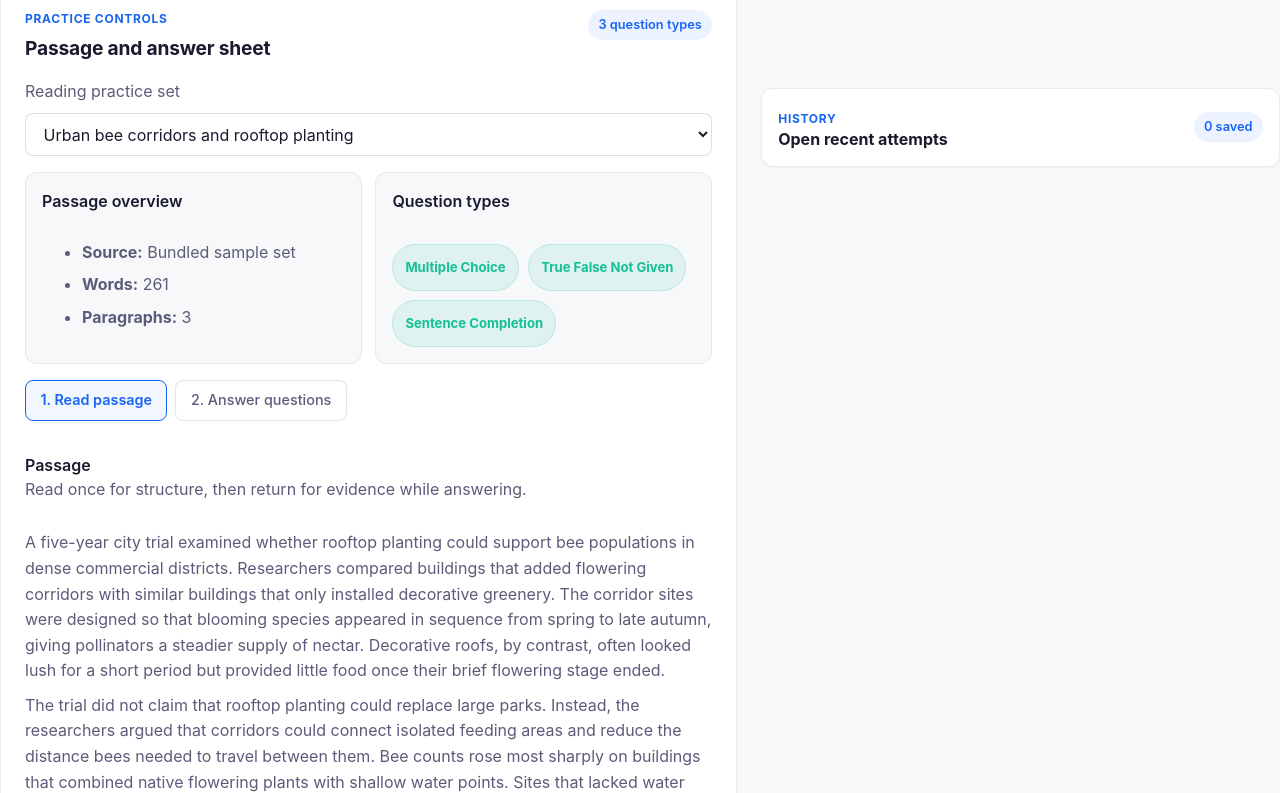
Scenario: ReadingPracticeShell › renders the passage, progress summary, and submitted report without creating a nested main landmark
(page scrolled)
Expected: the text "True False Not Given" is shown, x1=541 y1=258 x2=674 y2=277
Click the tab "2. Answer questions" at coordinates (261, 400), box x1=176 y1=380 x2=347 y2=421
(page scrolled)
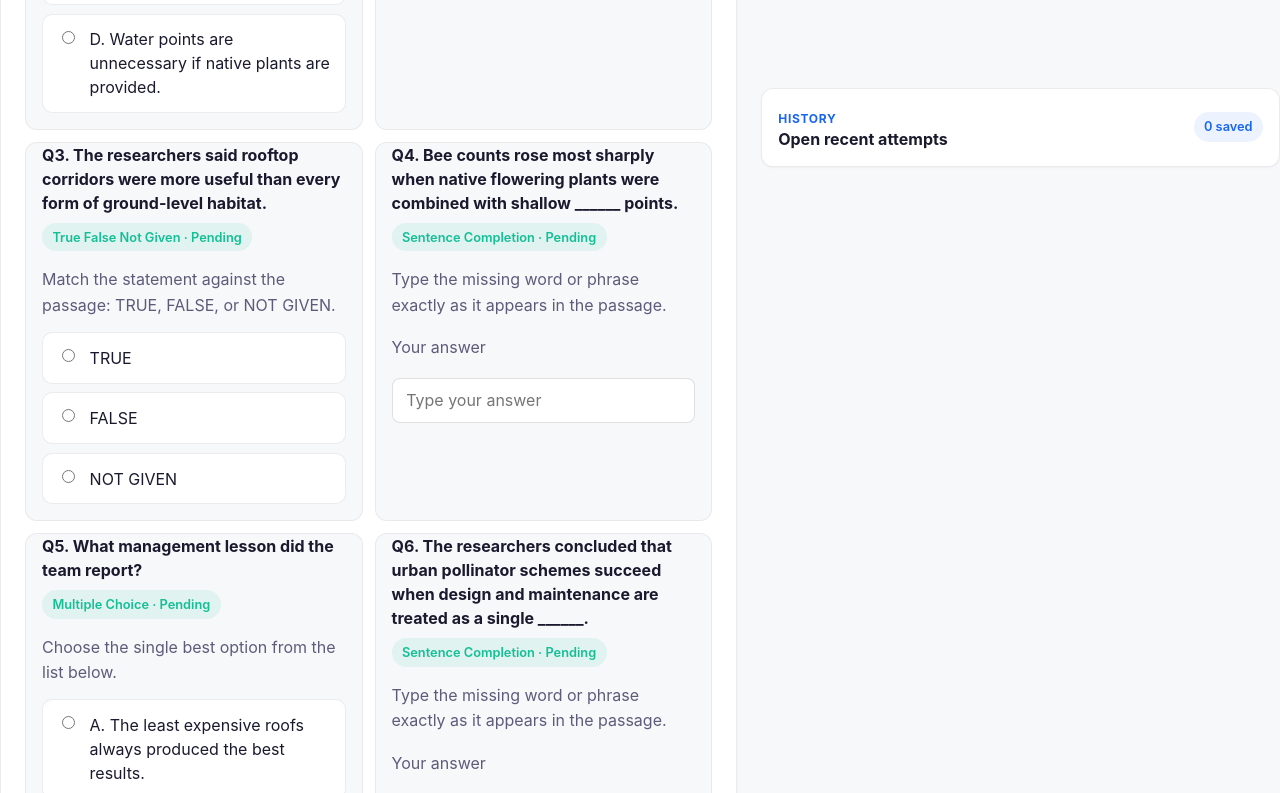
Type "water" into the field named "Bee counts rose most sharply when native flowering plants were combined with shallow ______ points." at coordinates (543, 400), box x1=392 y1=378 x2=695 y2=423
(page scrolled)
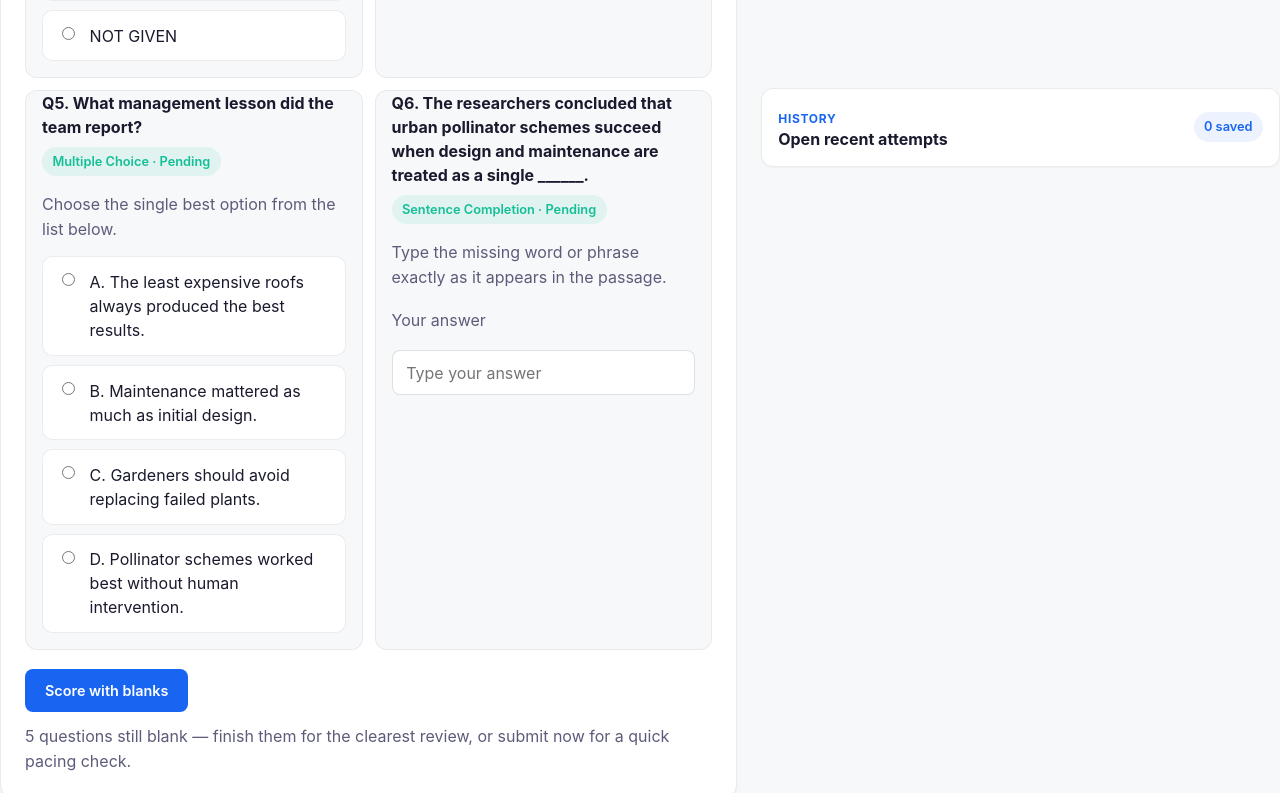
Click the button "Score with blanks" at coordinates (107, 690), box x1=25 y1=669 x2=188 y2=712
(page scrolled)
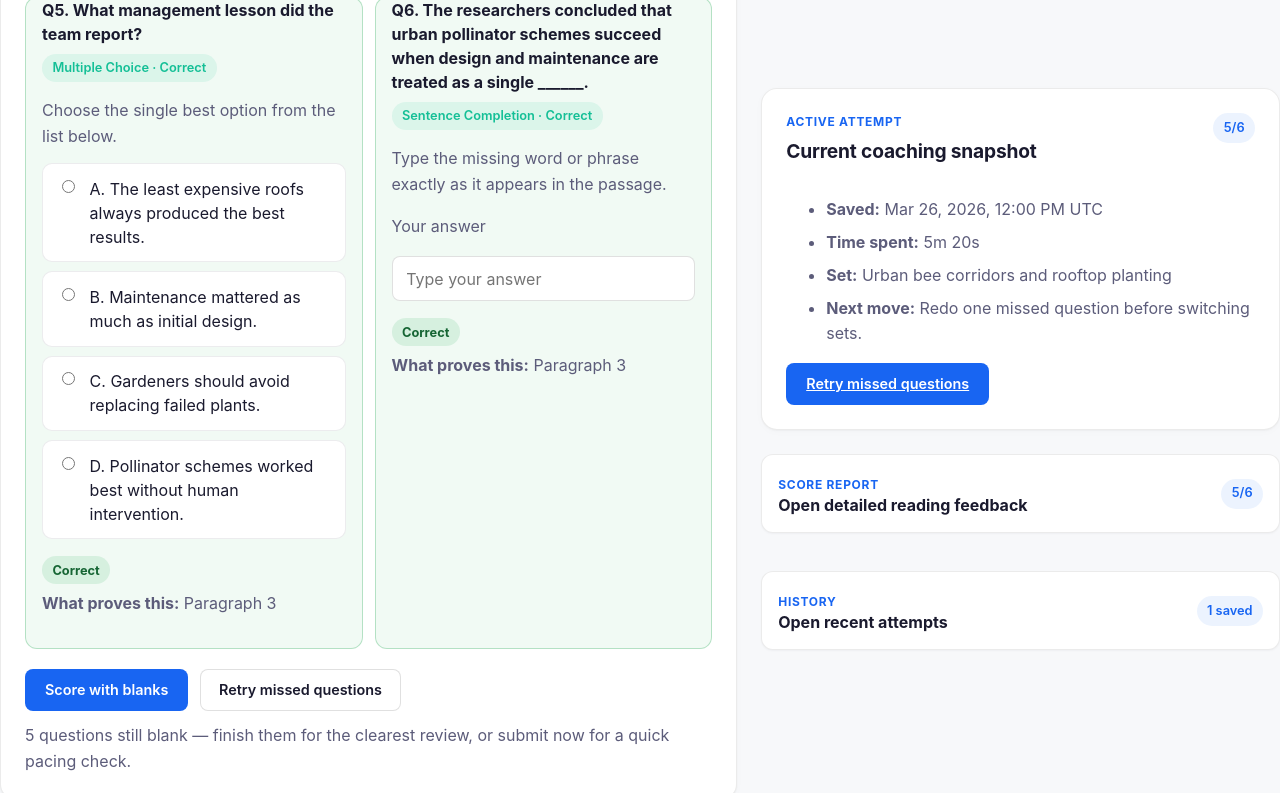
Now the text "5/6" in the row of "Current coaching snapshot" is shown, box x1=1224 y1=120 x2=1245 y2=135
Now the 2nd link "Retry missed questions" is shown, box x1=200 y1=669 x2=400 y2=711
